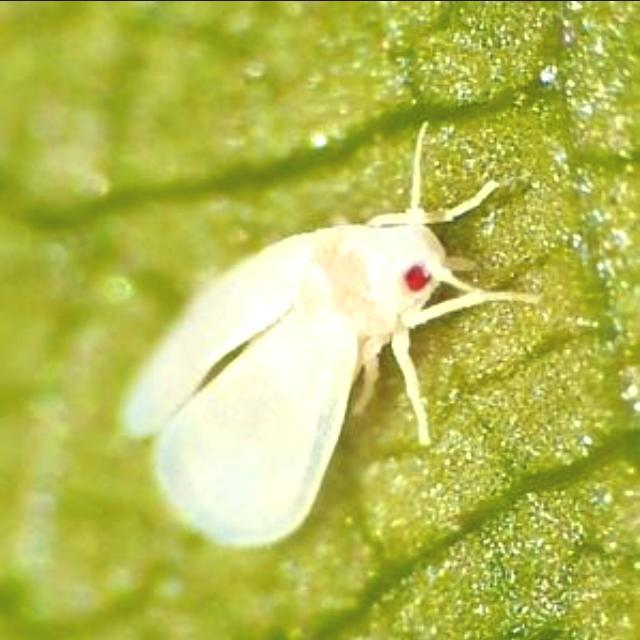Silverleaf whitefly: (115, 106, 543, 568)
